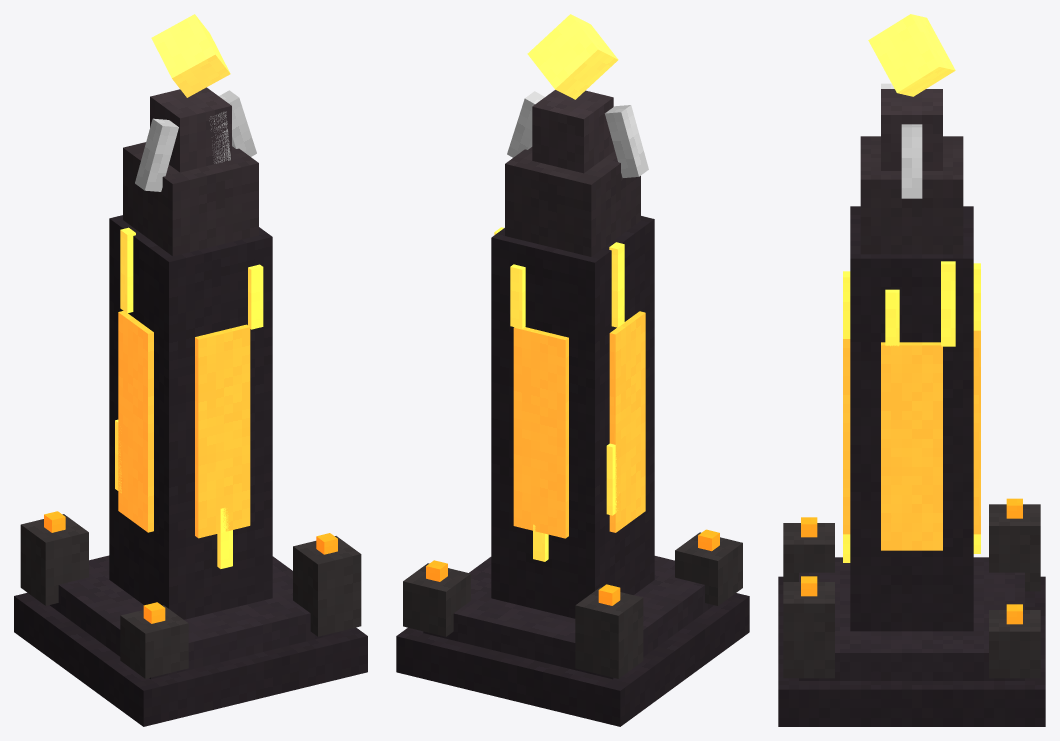
File: obelisk_volcan.glb
The picture shows the model from 3 angles, left to right: view 1: azimuth 30°, elevation 25°; view 2: azimuth 150°, elevation 25°; view 3: azimuth 270°, elevation 25°; orthographic projection. The views are drawn at different scales.
Visible parts, largest first — view 1: Obelisk; view 2: Obelisk; view 3: Obelisk.
Part boxes in pixels (x1,y1,x2,y2): Obelisk: [14, 14, 367, 726]; Obelisk: [396, 14, 749, 726]; Obelisk: [778, 14, 1045, 726].
Size of the model in its own units: 1.3 by 3.53 by 1.3.
Materials: 11 (11 with a texture image).
